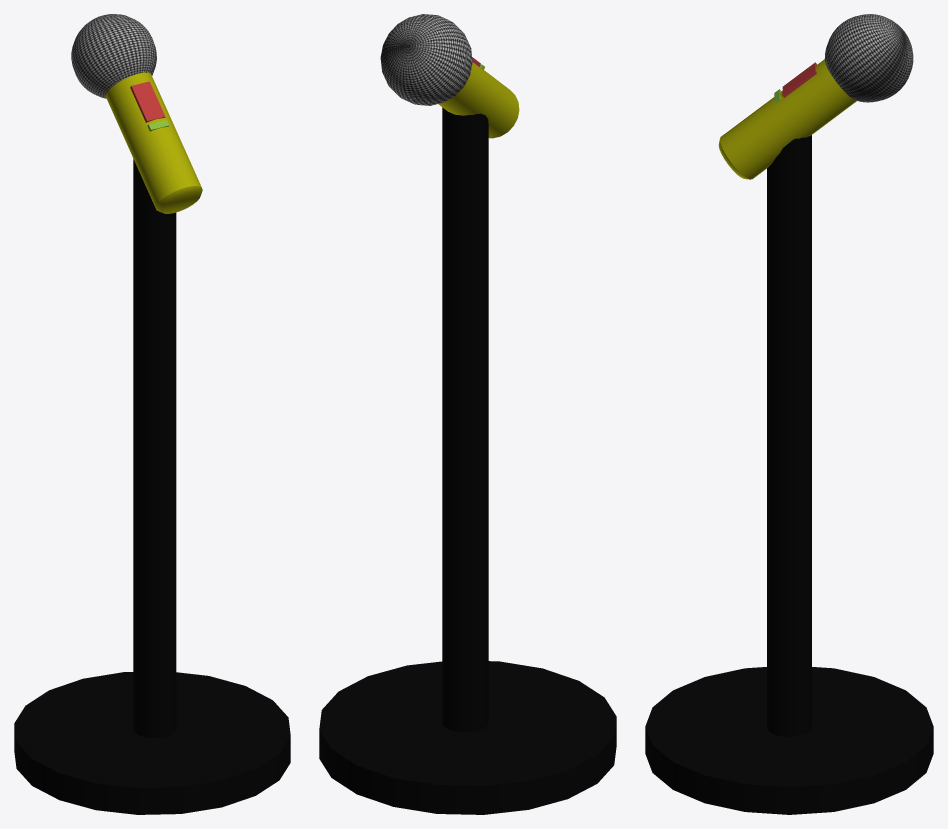
File: MicStand (1).fbx
3 views of the same model, side by side, from view 1: azimuth 30°, elevation 25°; view 2: azimuth 150°, elevation 25°; view 3: azimuth 270°, elevation 25° (orthographic). The views are drawn at different scales.
Parts seen in each view (by area): view 1: MicStand; view 2: MicStand; view 3: MicStand.
Boxes of the visible parts, <box> form: MicStand: <box>14,14,290,814</box>; MicStand: <box>319,14,616,814</box>; MicStand: <box>645,14,933,814</box>.
Bounding box in the file's own units: 2 × 5.64 × 2.
Materials: 5 (1 with a texture image).
